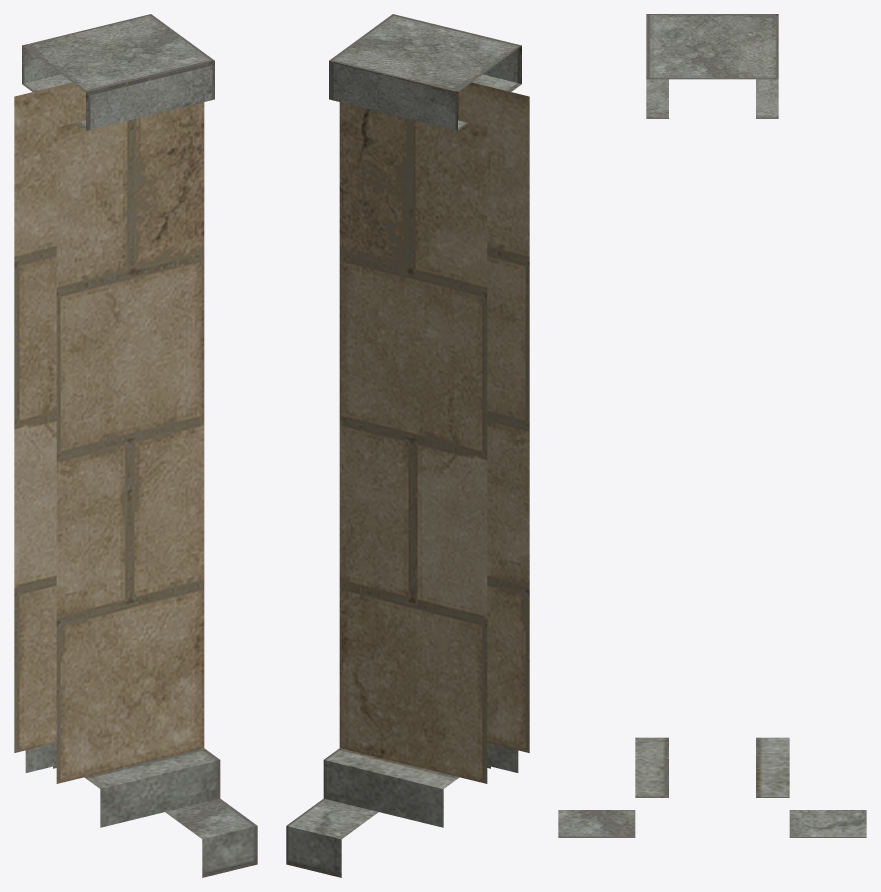
Rendered from wall_fill_half_U.fbx.
The picture shows the model from 3 angles, left to right: view 1: azimuth 30°, elevation 25°; view 2: azimuth 150°, elevation 25°; view 3: azimuth 270°, elevation 25°; orthographic projection. The views are drawn at different scales.
Visible parts, largest first — view 1: wall_fill_half_U; view 2: wall_fill_half_U; view 3: wall_fill_half_U.
Boxes of the visible parts, bbox=[...] form: wall_fill_half_U: bbox=[14, 14, 257, 877]; wall_fill_half_U: bbox=[286, 14, 529, 877]; wall_fill_half_U: bbox=[558, 14, 866, 837].
Bounding box in the file's own units: 40 × 200 × 70.
